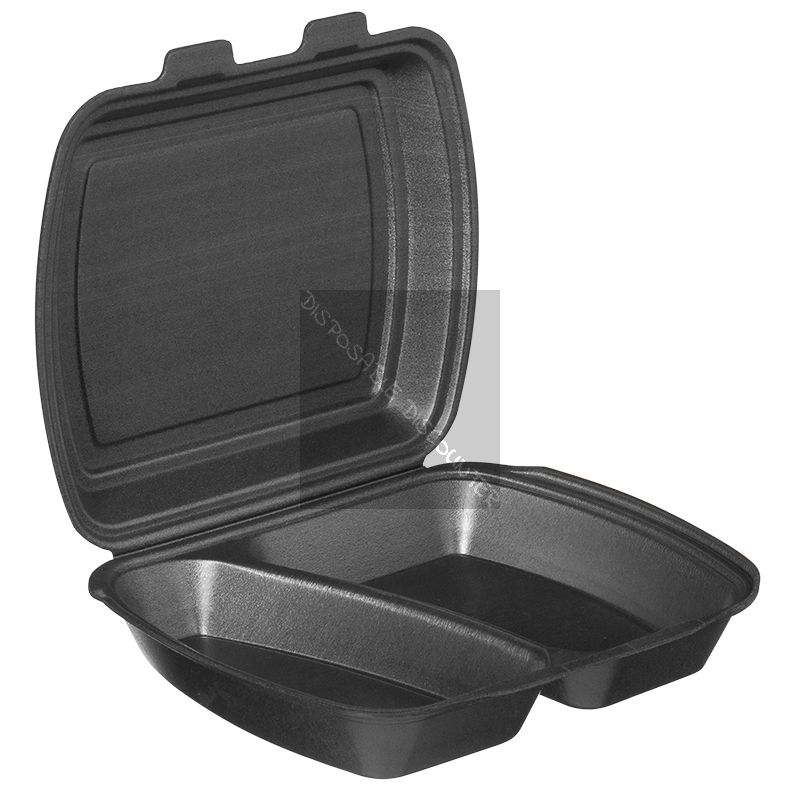Foam Box: (24, 6, 765, 784)
